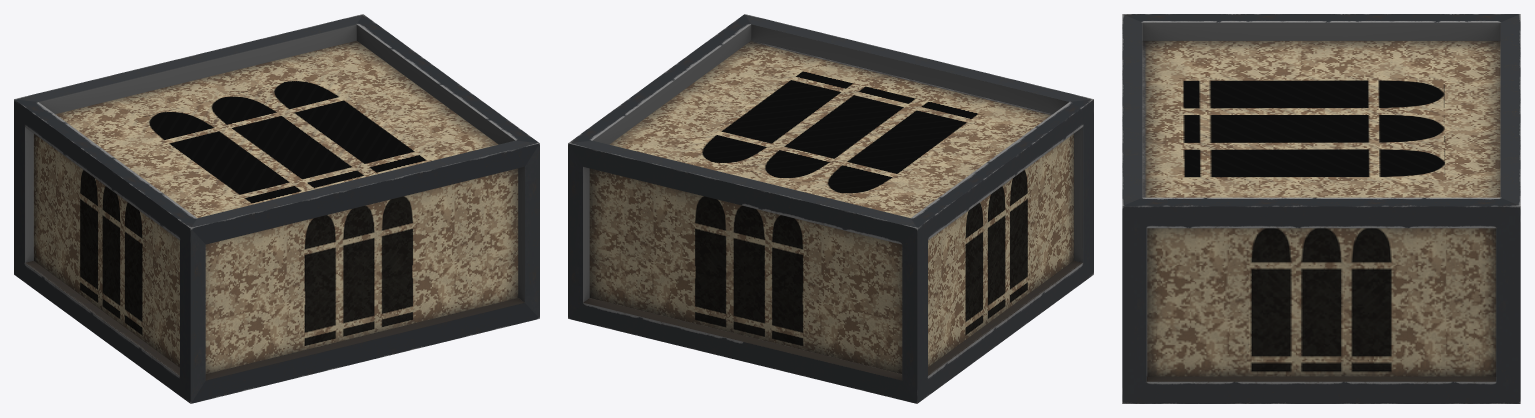
Rendered from ammo_box.glb.
3 views of the same model, side by side, from view 1: azimuth 30°, elevation 25°; view 2: azimuth 150°, elevation 25°; view 3: azimuth 270°, elevation 25° (orthographic). The views are drawn at different scales.
Visible parts, largest first — view 1: pCube1; view 2: pCube1; view 3: pCube1.
Part boxes in pixels (x1,y1,x2,y2): pCube1: (14,14,539,403); pCube1: (568,14,1093,403); pCube1: (1122,14,1520,403).
Size of the model in its own units: 6.75 by 3.24 by 5.92.
Materials: 1 (1 with a texture image).
